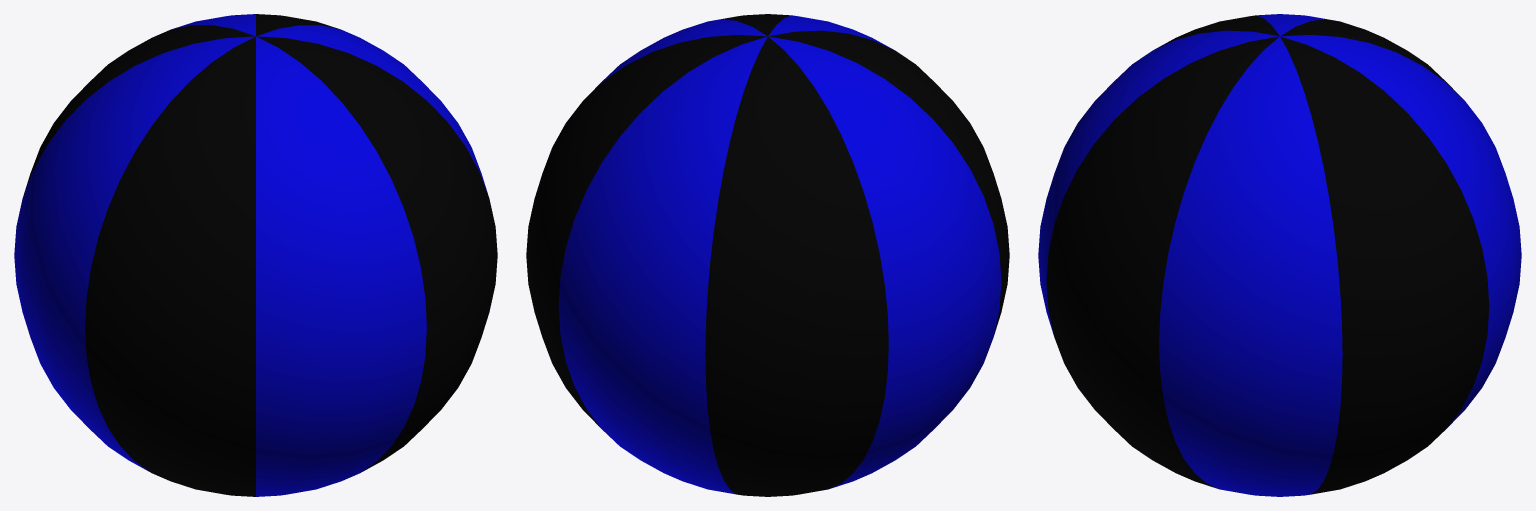
The model's file is Beach_Ball.fbx.
The picture shows the model from 3 angles, left to right: view 1: azimuth 30°, elevation 25°; view 2: azimuth 150°, elevation 25°; view 3: azimuth 270°, elevation 25°; orthographic projection.
Visible parts, largest first — view 1: Beach_Ball; view 2: Beach_Ball; view 3: Beach_Ball.
Boxes of the visible parts, x1=… form: Beach_Ball: x1=14, y1=14, x2=497, y2=496; Beach_Ball: x1=526, y1=14, x2=1009, y2=496; Beach_Ball: x1=1038, y1=14, x2=1521, y2=496.
Size of the model in its own units: 958 by 958 by 958.
